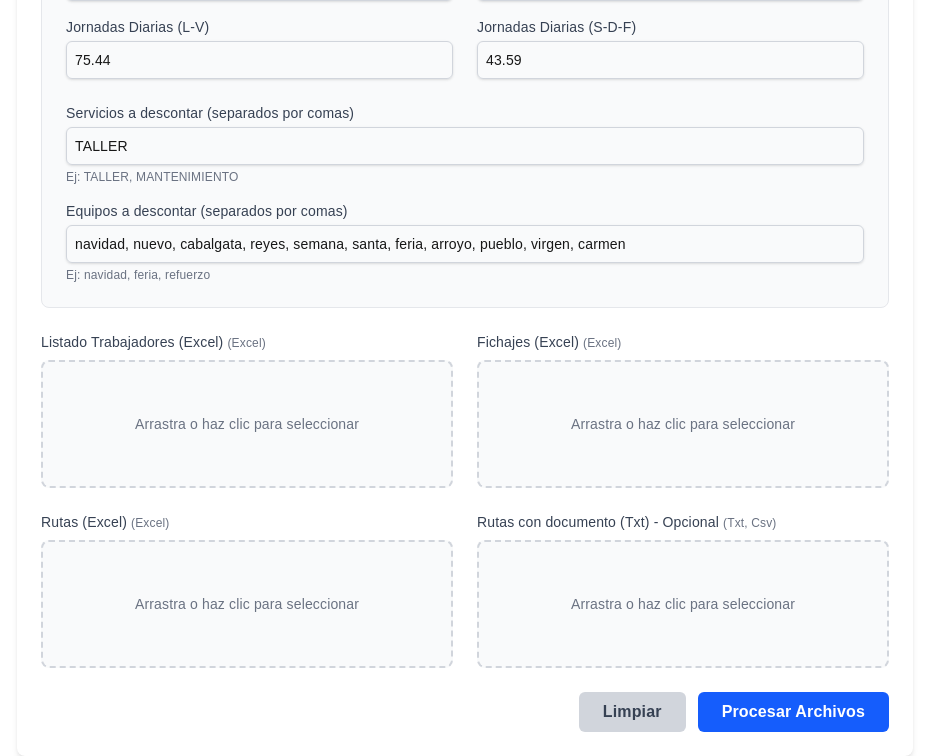
it: UploadJornadasForm › muestra error de validacion al enviar si faltan archivos requeridos
(page scrolled)
Click the button "Procesar Archivos" at {"x": 793, "y": 712}, box [698,692,889,732]
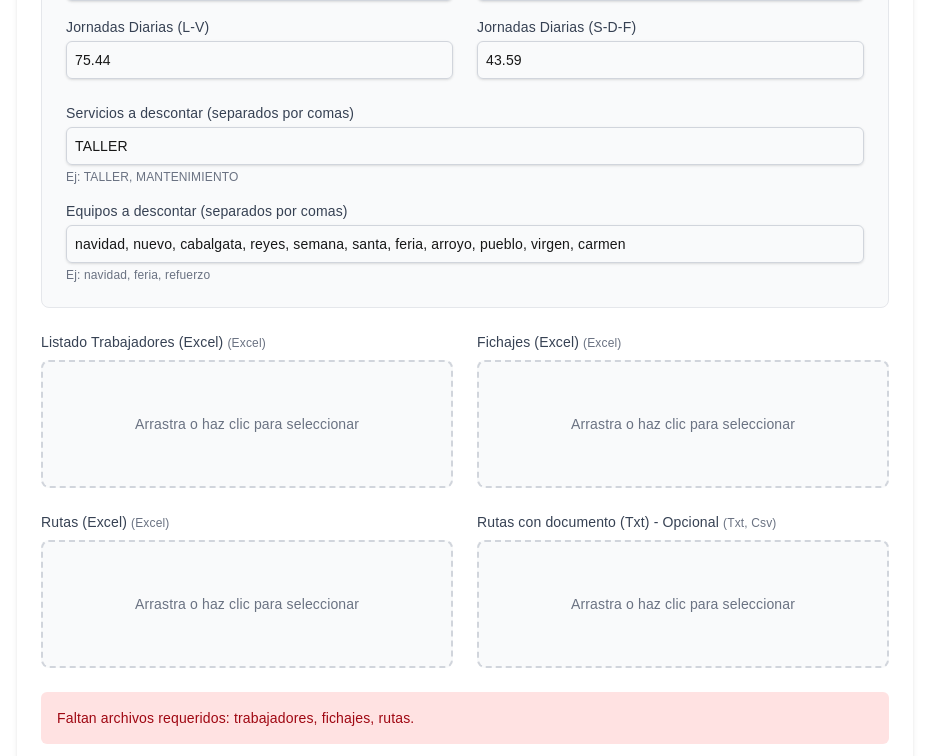
Result: the text "Faltan archivos requeridos: trabajadores, fichajes, rutas." is shown at [41,692,889,744]
